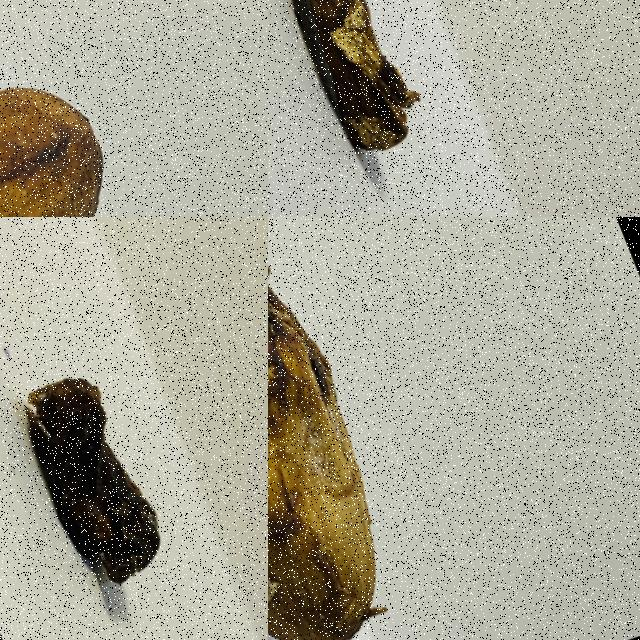Agglomerated_cocoabeans: (268, 217, 475, 639), (0, 0, 231, 216)
Flat_cocoabeans: (0, 304, 218, 639), (268, 0, 486, 216)
